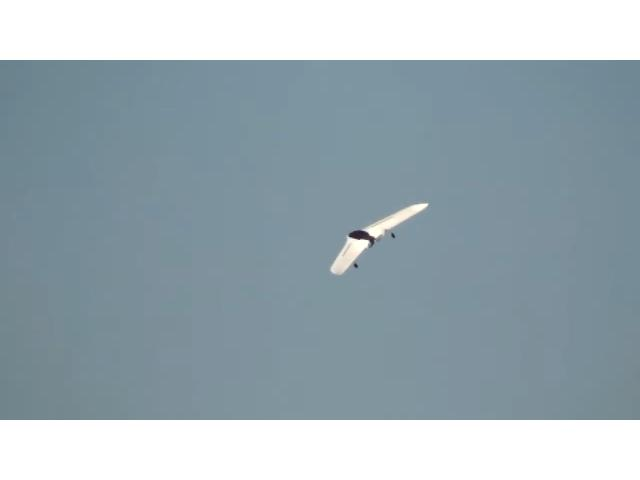Anti-Drone: (332, 204, 426, 276)
